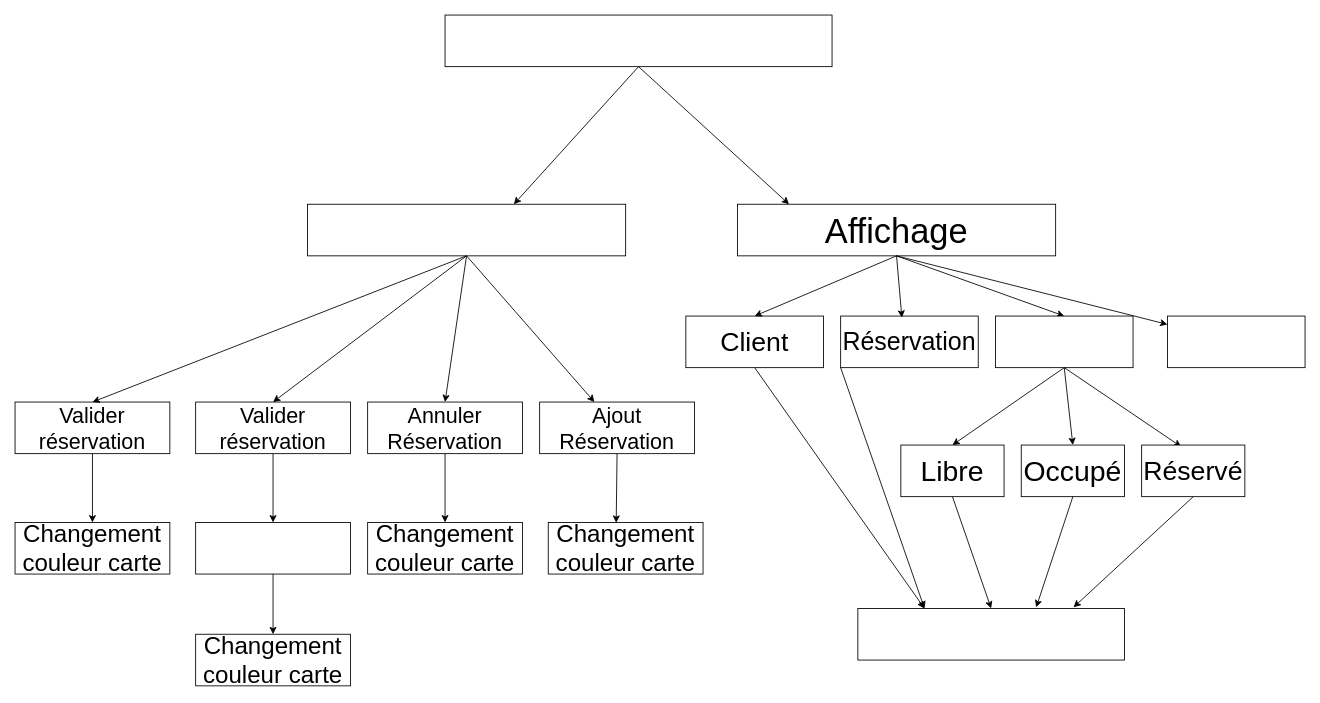
This 1320x703 diagram has some shape labels left out. Here are the shapes that lost their labels. From the top down, the centre of each, then its label:
the point at 638,40: Application de gestion de camping
the point at 466,229: Gérer emplacement
the point at 1064,341: Emplacement
the point at 1236,341: Ordre du jours
the point at 272,548: Choix emplacement
the point at 990,634: Modifier donnée
